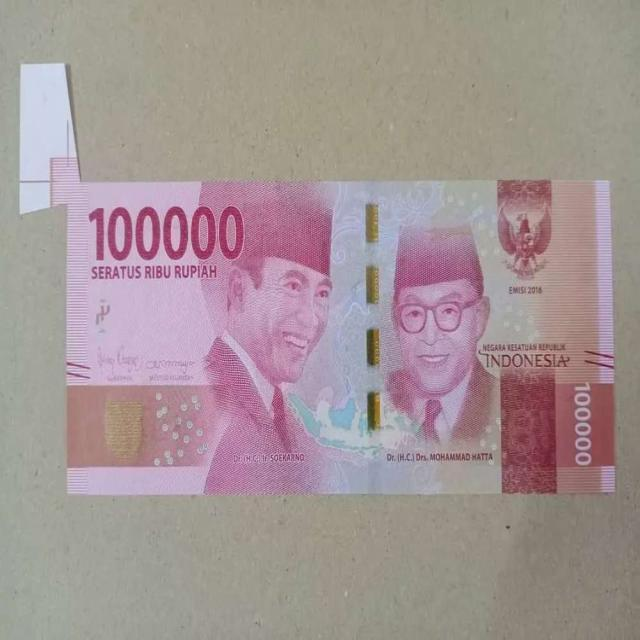seratus ribu rupiah: (50, 152, 640, 524)
